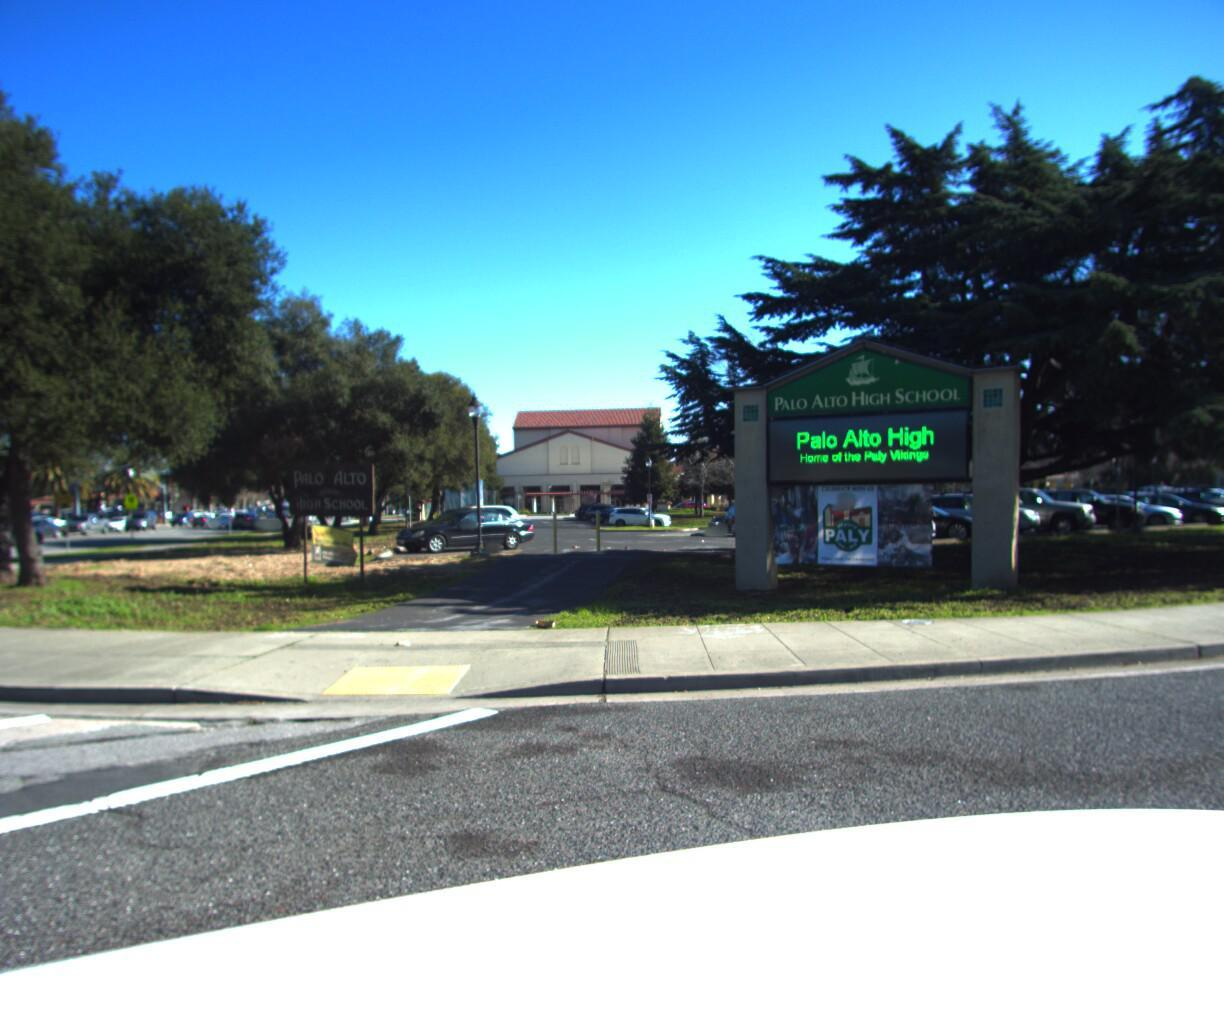car: (63, 505, 108, 528), (231, 504, 265, 525)
